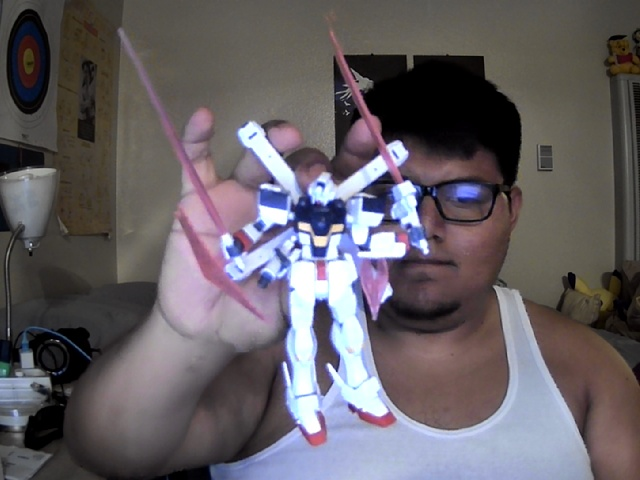Crossbones: (118, 29, 432, 449)
